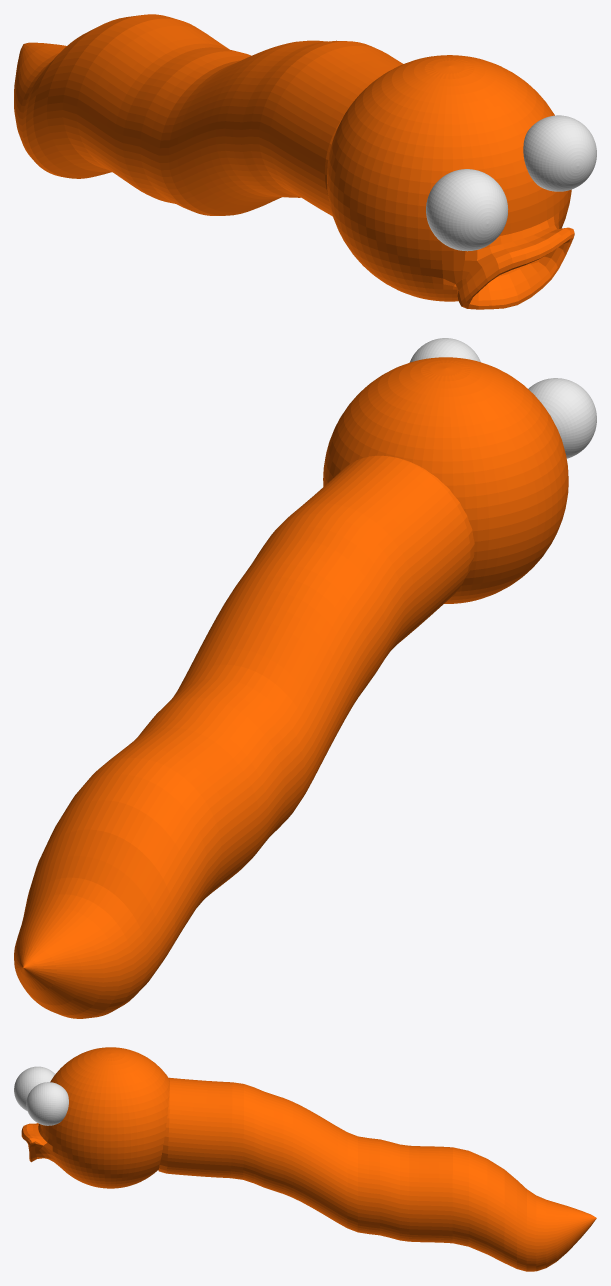
The model's file is wirm.fbx.
The picture shows the model from 3 angles, top to bottom: view 1: azimuth 30°, elevation 25°; view 2: azimuth 150°, elevation 25°; view 3: azimuth 270°, elevation 25°; orthographic projection. The views are drawn at different scales.
Visible parts, largest first — view 1: Cylinder; view 2: Cylinder; view 3: Cylinder.
Boxes of the visible parts, x1=… form: Cylinder: x1=14, y1=14, x2=596, y2=309; Cylinder: x1=14, y1=338, x2=596, y2=1018; Cylinder: x1=14, y1=1047, x2=596, y2=1271.
Bounding box in the file's own units: 101 × 171 × 420.
